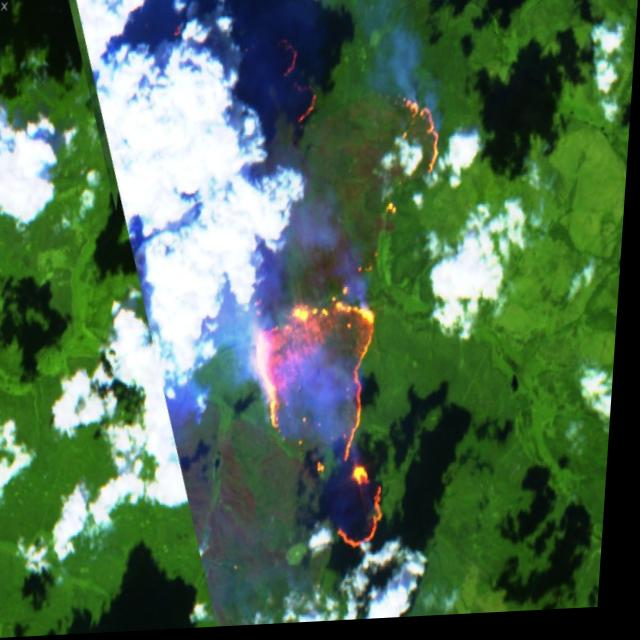fire: (235, 287, 410, 567), (254, 25, 333, 132), (379, 95, 451, 195)
